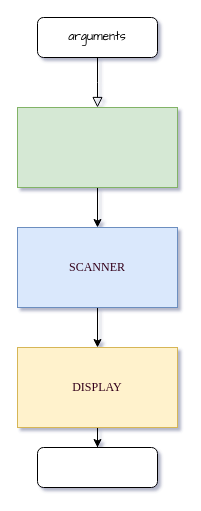
Image size: 201x511. Some labels were removed from this diagram. The centre of each missing label's shape, as x and y in pixels:
"exit(0)" goes at [97,467].
"PARSER" goes at [97,147].
